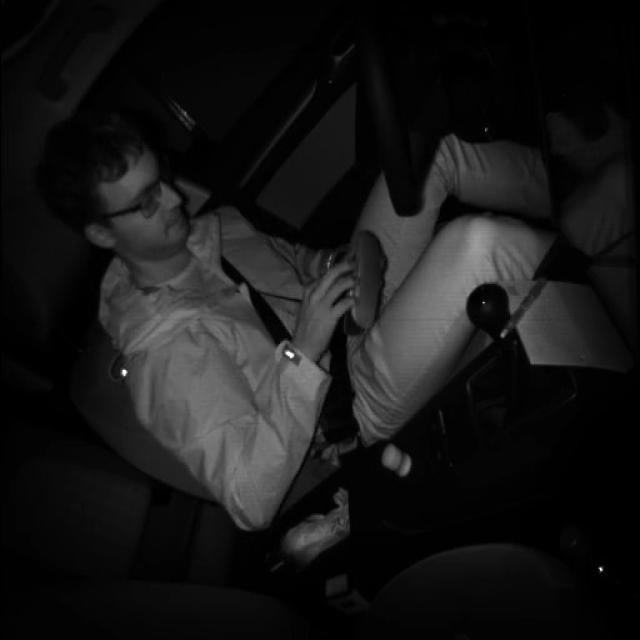pen: (499, 271, 550, 340)
